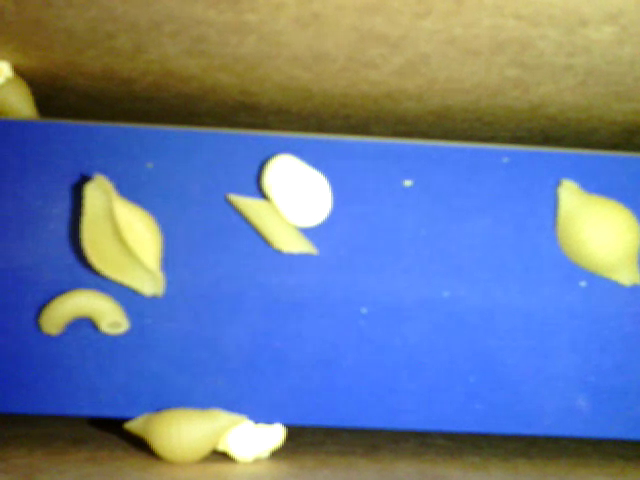elbow: (36, 288, 130, 338)
penne: (229, 190, 318, 255)
shell: (78, 169, 164, 297), (555, 177, 637, 294), (123, 406, 248, 462)
